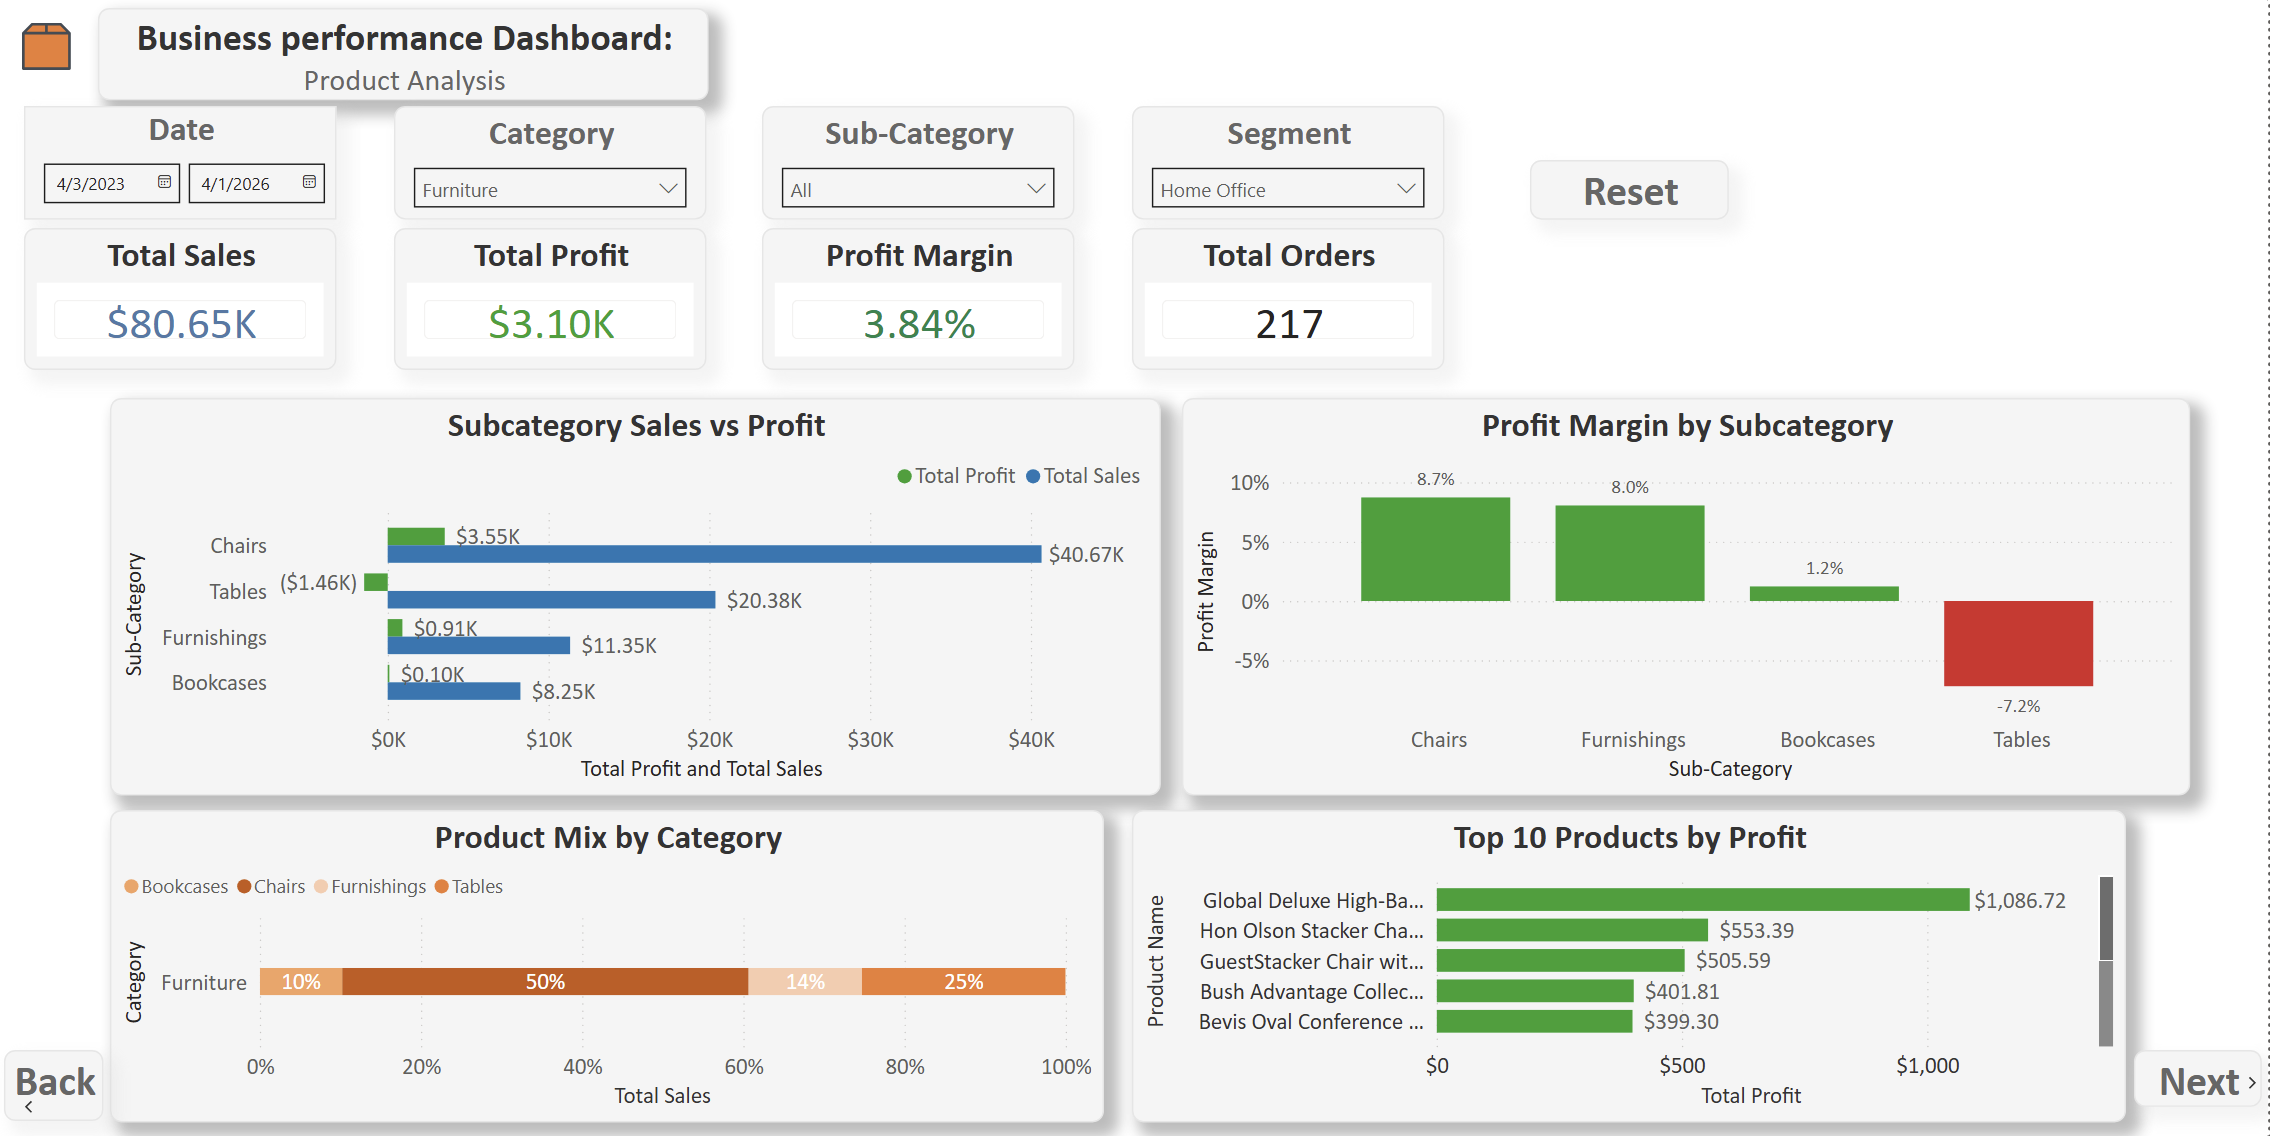

This screenshot's page, from the dashboard's own definition file:
{"tool":"powerbi","page":{"name":"Product Performance","canvas":[1600,800],"ordinal":1},"visuals":[{"type":"clusteredBarChart","title":"Subcategory Sales vs Profit","fields":{"Y":["samplesuperstore.Total Profit","samplesuperstore.Total Sales"],"Category":["samplesuperstore.Sub-Category"]},"box":[80,280,740,280],"z":0},{"type":"clusteredColumnChart","title":"Profit Margin by Subcategory","fields":{"Category":["samplesuperstore.Sub-Category"],"Y":["samplesuperstore.Profit Margin"]},"box":[835,280,710,280],"z":1000},{"type":"clusteredBarChart","title":"Top 10 Products by Profit ","fields":{"Category":["samplesuperstore.Product Name"],"Y":["samplesuperstore.Total Profit"]},"box":[800,570,700,220],"z":2000},{"type":"hundredPercentStackedBarChart","title":"Product Mix by Category","fields":{"Category":["samplesuperstore.Category"],"Y":["samplesuperstore.Total Sales"],"Series":["samplesuperstore.Sub-Category"]},"box":[80,570,700,220],"z":3000},{"type":"textbox","title":"Business performance Dashboard:","box":[72,5,430,65],"z":4000},{"type":"slicer","title":"Date","fields":{"Values":["samplesuperstore.Order Date"]},"box":[20,75,220,80],"z":5000},{"type":"slicer","title":"Category","fields":{"Values":["samplesuperstore.Category"]},"box":[280,75,220,80],"z":6000},{"type":"actionButton","title":"Reset","box":[1080,113,140,42],"z":7000},{"type":"slicer","title":"Sub-Category","fields":{"Values":["samplesuperstore.Sub-Category"]},"box":[540,75,220,80],"z":8000},{"type":"actionButton","title":"Back","box":[5,740,70,50],"z":9000},{"type":"actionButton","title":"Next","box":[1505,740,90,40],"z":10000},{"type":"image","box":[1580,753,18,18],"z":11000},{"type":"image","box":[14,770,18,18],"z":12000},{"type":"image","box":[15,12,40,40],"z":13000},{"type":"slicer","title":"Segment","fields":{"Values":["samplesuperstore.Segment"]},"box":[800,75,220,80],"z":14000},{"type":"cardVisual","title":"Total Sales","fields":{"Data":["samplesuperstore.Total Sales"]},"box":[20,160,220,100],"z":15000},{"type":"cardVisual","title":"Total Profit","fields":{"Data":["samplesuperstore.Total Profit"]},"box":[280,160,220,100],"z":16000},{"type":"cardVisual","title":"Profit Margin","fields":{"Data":["samplesuperstore.Profit Margin"]},"box":[540,160,220,100],"z":17000},{"type":"cardVisual","title":"Total Orders","fields":{"Data":["samplesuperstore.Total Orders"]},"box":[800,160,220,100],"z":18000}]}

Visuals, with their boxes in screenshot pixels (x1, y1, x2, y2), scaled from the page's 1600x800 canvas onto the 2270x1136 screenshot:
"Subcategory Sales vs Profit" clusteredBarChart: bbox=[114, 398, 1163, 795]
"Profit Margin by Subcategory" clusteredColumnChart: bbox=[1185, 398, 2192, 795]
"Top 10 Products by Profit " clusteredBarChart: bbox=[1135, 809, 2128, 1122]
"Product Mix by Category" hundredPercentStackedBarChart: bbox=[114, 809, 1107, 1122]
"Business performance Dashboard:" textbox: bbox=[102, 7, 712, 99]
"Date" slicer: bbox=[28, 106, 340, 220]
"Category" slicer: bbox=[397, 106, 709, 220]
"Reset" actionButton: bbox=[1532, 160, 1731, 220]
"Sub-Category" slicer: bbox=[766, 106, 1078, 220]
"Back" actionButton: bbox=[7, 1051, 106, 1122]
"Next" actionButton: bbox=[2135, 1051, 2263, 1108]
image: bbox=[2242, 1069, 2267, 1095]
image: bbox=[20, 1093, 45, 1119]
image: bbox=[21, 17, 78, 74]
"Segment" slicer: bbox=[1135, 106, 1447, 220]
"Total Sales" cardVisual: bbox=[28, 227, 340, 369]
"Total Profit" cardVisual: bbox=[397, 227, 709, 369]
"Profit Margin" cardVisual: bbox=[766, 227, 1078, 369]
"Total Orders" cardVisual: bbox=[1135, 227, 1447, 369]
